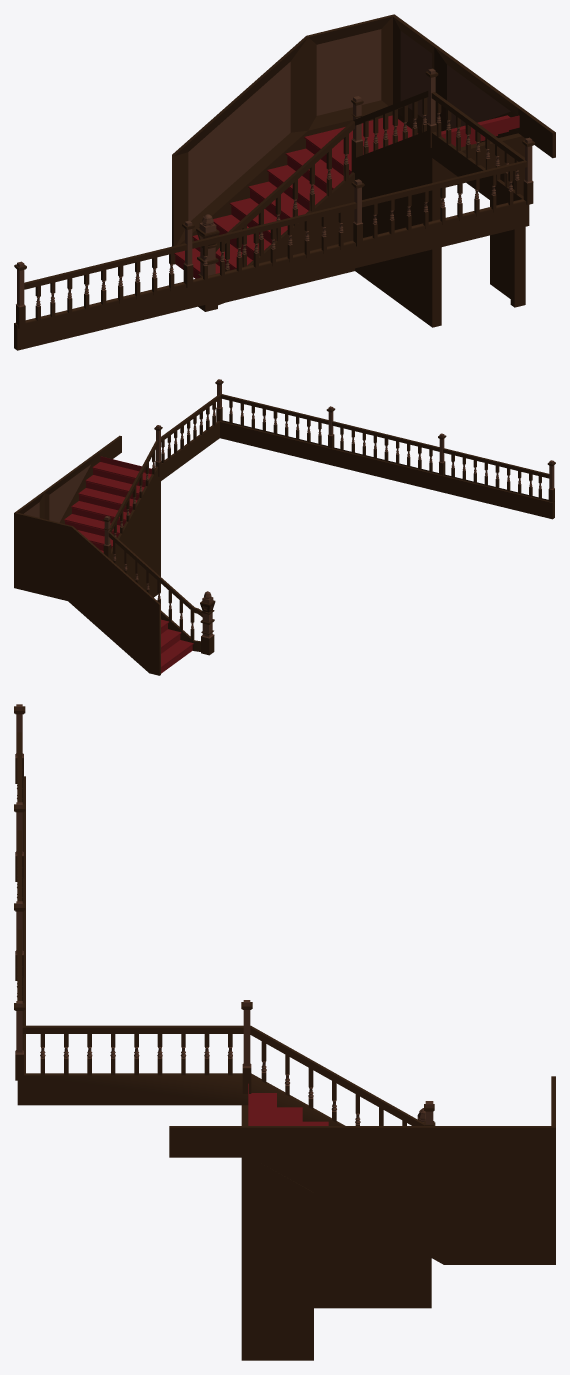
Rendered from MainStairsUV.fbx.
3 views of the same model, one above another, from view 1: azimuth 30°, elevation 25°; view 2: azimuth 150°, elevation 25°; view 3: azimuth 270°, elevation 25° (orthographic). The views are drawn at different scales.
Parts seen in each view (by area): view 1: polySurface60; view 2: polySurface60; view 3: polySurface60.
Part boxes in pixels (box(x1,y1,x2,y2)): polySurface60: box(14, 14, 555, 350); polySurface60: box(14, 379, 555, 675); polySurface60: box(14, 704, 555, 1360).
Size of the model in its own units: 789 by 320 by 514.
